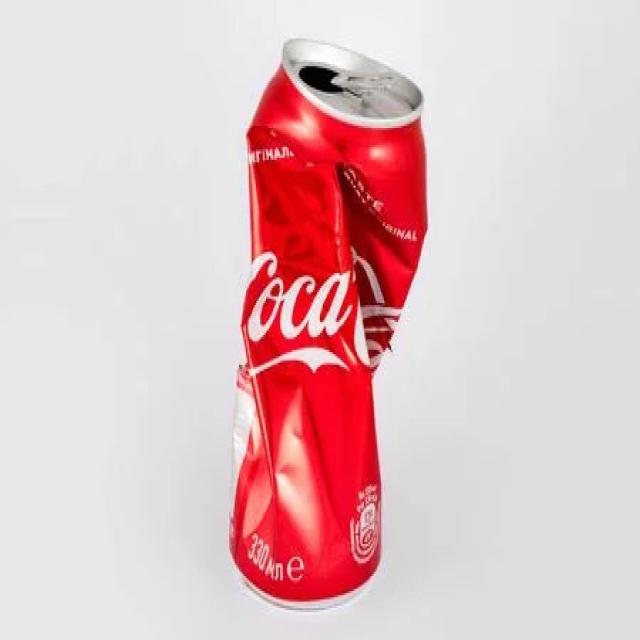Cans: (222, 13, 442, 614)
